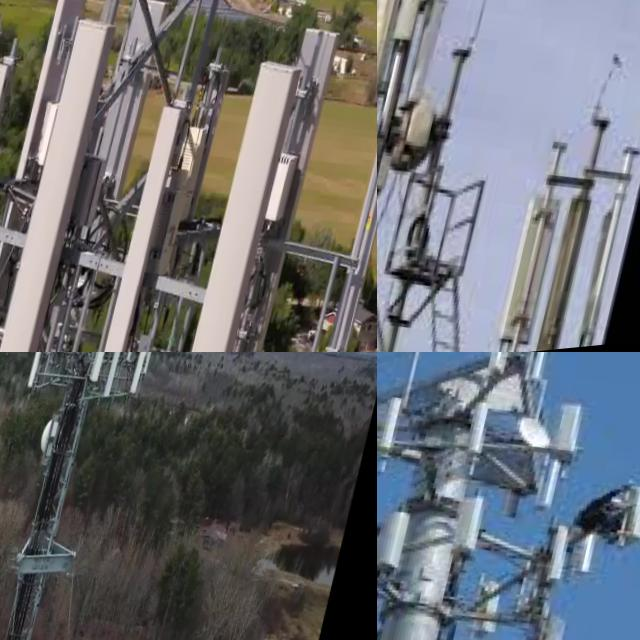GSM Antenna: (159, 55, 313, 352), (0, 13, 122, 352), (224, 25, 343, 352), (66, 0, 177, 298), (96, 94, 191, 352), (11, 0, 86, 205), (377, 0, 435, 244), (488, 191, 570, 352), (325, 106, 377, 352), (0, 55, 20, 352), (443, 485, 500, 568), (386, 0, 457, 57), (509, 352, 575, 406), (377, 508, 417, 595), (377, 400, 414, 475), (534, 530, 577, 594), (548, 405, 592, 465), (611, 483, 640, 568), (127, 352, 169, 401), (103, 352, 140, 406), (24, 352, 68, 397), (461, 352, 525, 380), (90, 352, 120, 394)
Microwave Antenna: (385, 90, 457, 198), (32, 415, 69, 487)
